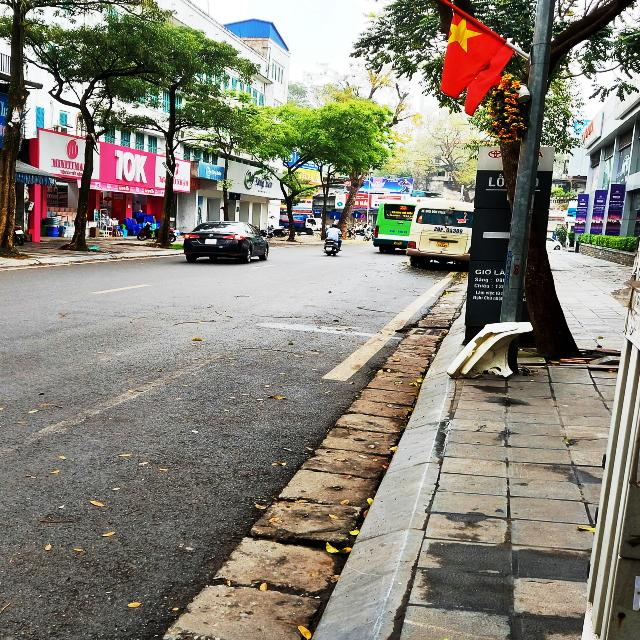license_plate: (206, 239, 218, 246), (437, 243, 450, 249), (326, 248, 334, 252)
